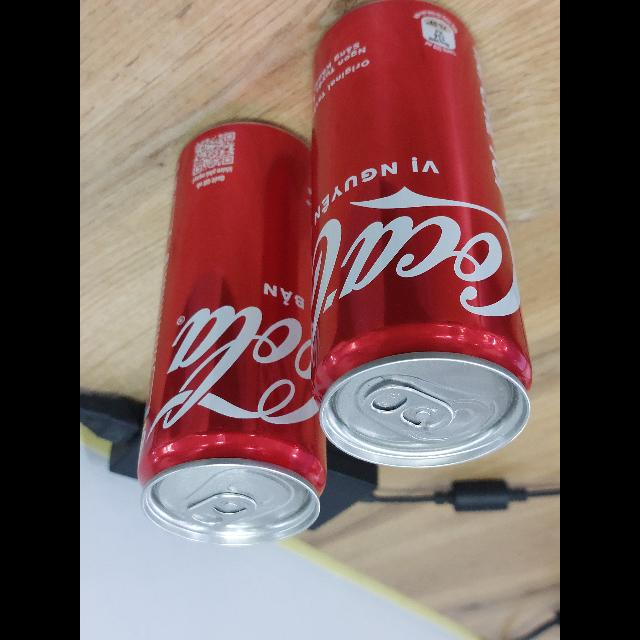coca_cola: (310, 0, 533, 468), (137, 118, 327, 546)
